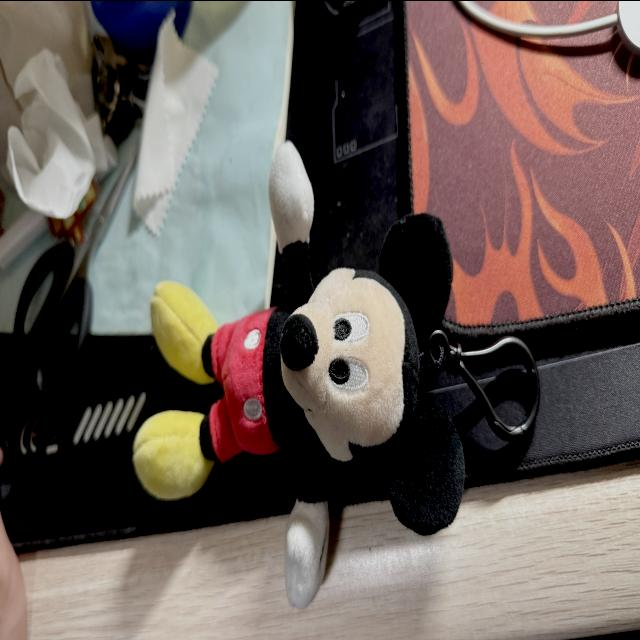mickey: (134, 142, 464, 607)
